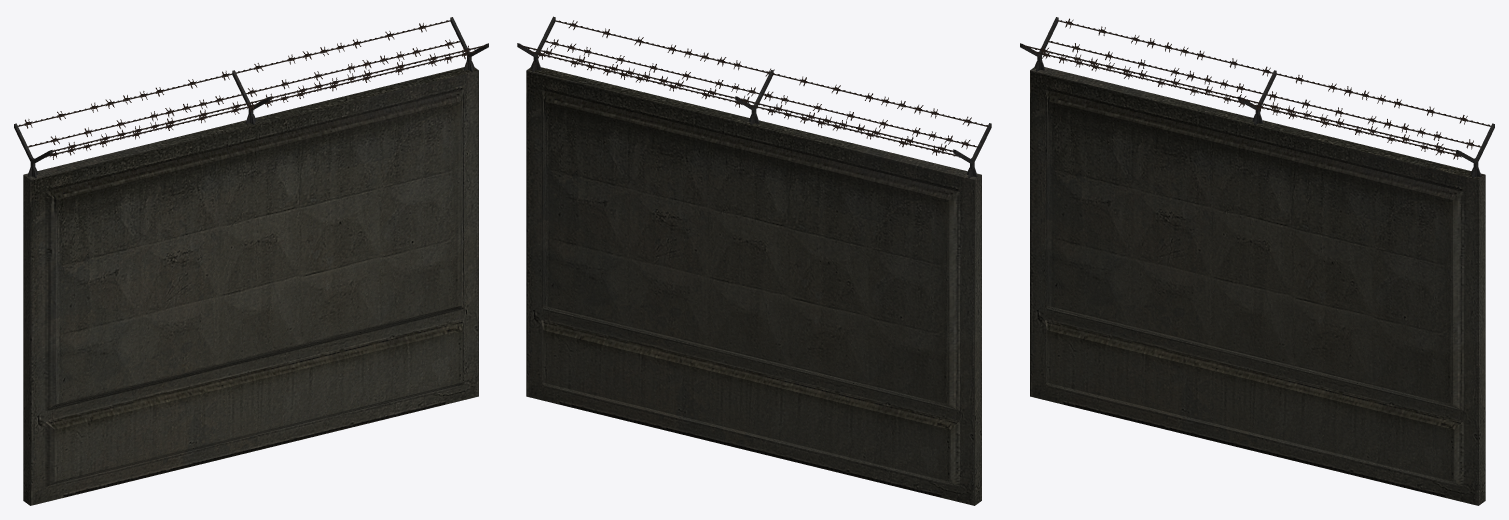
Rendered from concrete_fence_hr_2.dae.
The picture shows the model from 3 angles, left to right: view 1: azimuth 30°, elevation 25°; view 2: azimuth 150°, elevation 25°; view 3: azimuth 330°, elevation 25°; orthographic projection.
Visible parts, largest first — view 1: concrete_fence_hr_2; view 2: concrete_fence_hr_2; view 3: concrete_fence_hr_2.
Part boxes in pixels (x1,y1,x2,y2): concrete_fence_hr_2: [14, 17, 488, 505]; concrete_fence_hr_2: [517, 16, 991, 505]; concrete_fence_hr_2: [1020, 17, 1494, 505].
Bounding box in the file's own units: 3.6 × 0.5551 × 2.82.
3 materials, 3 textured.
